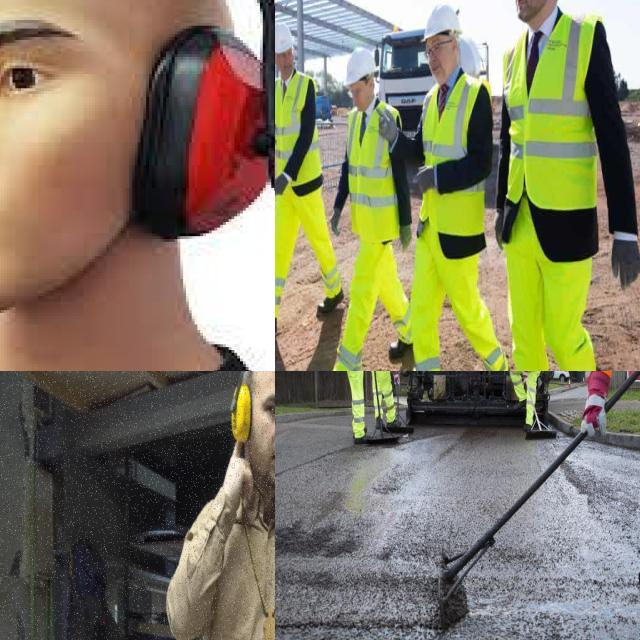Ear-protection: (82, 0, 275, 224), (225, 371, 275, 502)
No_Glasses: (254, 384, 275, 433)
face_nomask: (425, 34, 455, 90), (511, 0, 546, 26), (275, 49, 299, 82), (352, 74, 369, 112)
glasses: (422, 41, 443, 65)
hand_glove: (580, 371, 612, 443), (610, 227, 640, 293), (412, 163, 444, 196), (378, 111, 402, 154), (327, 202, 346, 246), (275, 174, 293, 198), (400, 222, 414, 252)
head_helmet: (422, 3, 463, 41), (344, 47, 377, 86), (275, 21, 294, 54)
person: (489, 0, 640, 371), (397, 14, 512, 371), (319, 48, 416, 371), (275, 19, 347, 340), (342, 371, 379, 445), (504, 371, 544, 431), (372, 371, 402, 428)
shoes: (384, 324, 416, 366), (314, 287, 346, 318), (481, 357, 514, 371), (351, 427, 375, 445), (511, 389, 528, 412), (317, 364, 360, 371)
vest: (504, 15, 601, 220), (419, 74, 487, 240), (346, 104, 406, 240), (275, 74, 323, 188)
